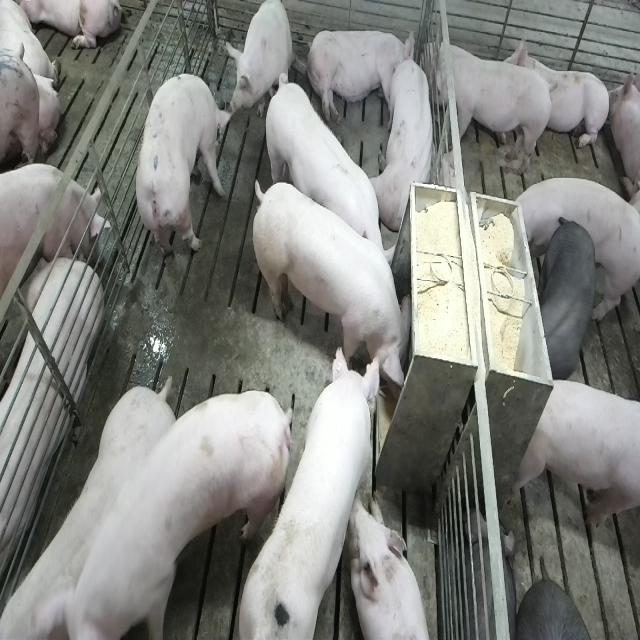Feeding: (240, 343, 396, 634), (255, 174, 419, 400)
Lateral_lying: (0, 248, 102, 601), (306, 26, 415, 127)
Sitting: (226, 1, 294, 130)
Standing: (3, 376, 182, 640), (132, 380, 290, 634), (261, 70, 393, 285), (514, 376, 639, 538), (134, 70, 231, 275), (511, 175, 638, 322), (423, 40, 555, 180), (0, 164, 106, 306)
Sternal_lying: (509, 32, 610, 154), (374, 44, 438, 231), (353, 497, 433, 640)
